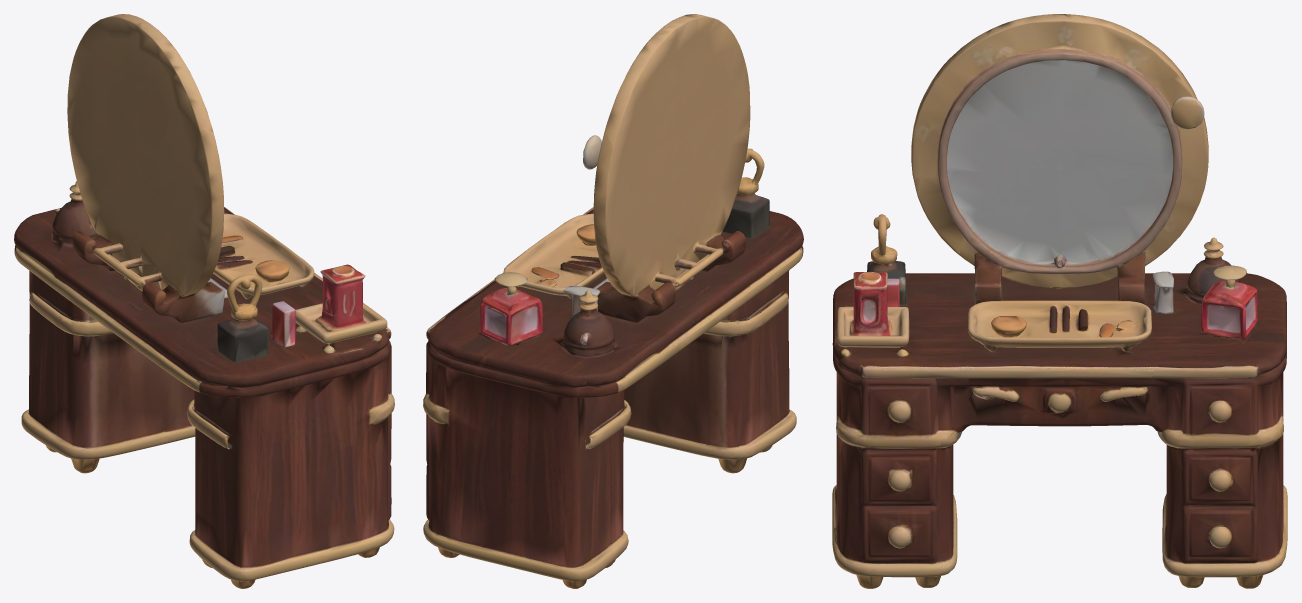
The model's file is vanity.glb.
The picture shows the model from 3 angles, left to right: view 1: azimuth 30°, elevation 25°; view 2: azimuth 150°, elevation 25°; view 3: azimuth 270°, elevation 25°; orthographic projection. The views are drawn at different scales.
Visible parts, largest first — view 1: tripo_node_afbd1411-2873-48bd-afbd-72bc9a4c9dd3; view 2: tripo_node_afbd1411-2873-48bd-afbd-72bc9a4c9dd3; view 3: tripo_node_afbd1411-2873-48bd-afbd-72bc9a4c9dd3.
Part boxes in pixels (box(x1,y1,x2,y2)): tripo_node_afbd1411-2873-48bd-afbd-72bc9a4c9dd3: box(14, 14, 394, 588); tripo_node_afbd1411-2873-48bd-afbd-72bc9a4c9dd3: box(423, 14, 803, 588); tripo_node_afbd1411-2873-48bd-afbd-72bc9a4c9dd3: box(832, 14, 1287, 588).
Size of the model in its own units: 0.4332 by 0.9998 by 0.8163.
1 material, 1 textured.
